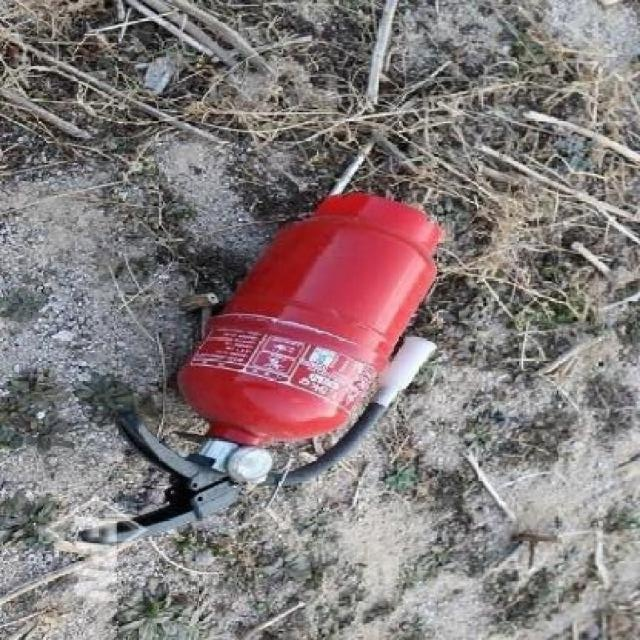fire extinguisher: (79, 192, 444, 545)
